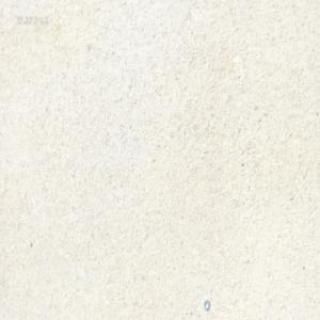Washertrack_idkeyframe: (203, 298, 209, 311)
